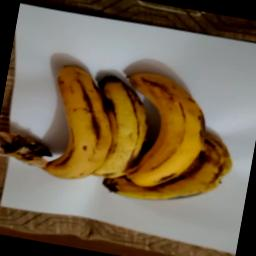Banana Unripe: (0, 44, 247, 215)
